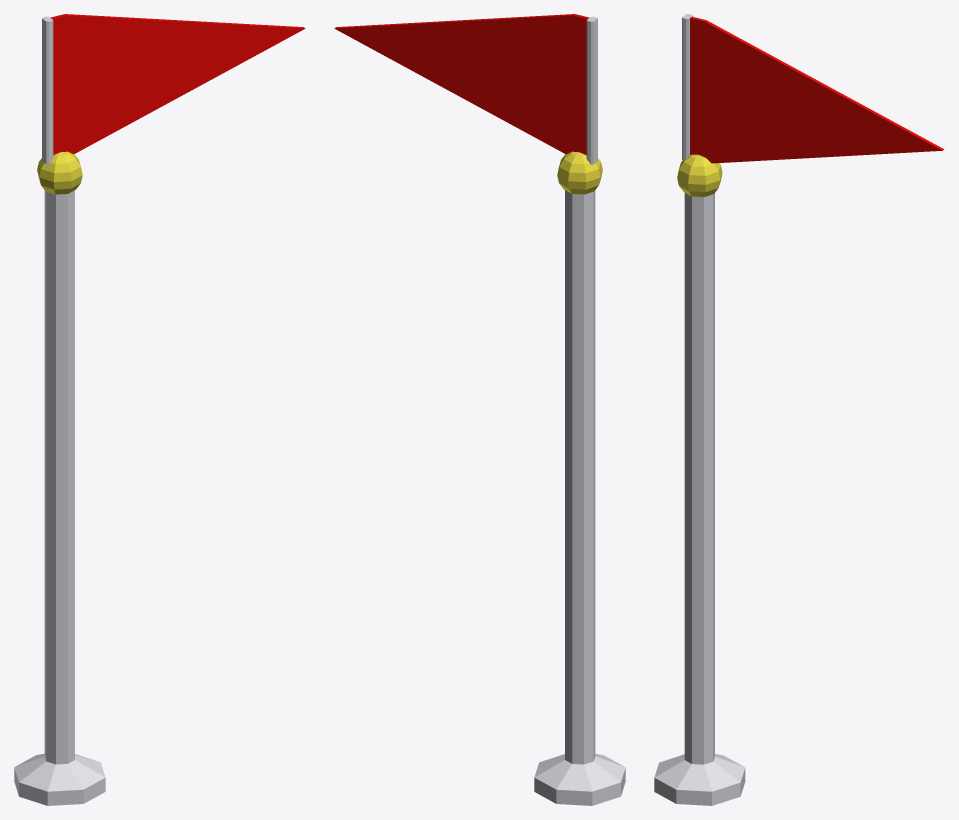
The model's file is GolfFlag.fbx.
The picture shows the model from 3 angles, left to right: view 1: azimuth 30°, elevation 25°; view 2: azimuth 150°, elevation 25°; view 3: azimuth 330°, elevation 25°; orthographic projection.
Visible parts, largest first — view 1: Cube; view 2: Cube; view 3: Cube.
Boxes of the visible parts, x1,y1,x2,y2 form: Cube: (14, 14, 305, 805); Cube: (334, 14, 625, 805); Cube: (654, 14, 944, 805).
Size of the model in its own units: 2.09 by 5.39 by 0.6.
